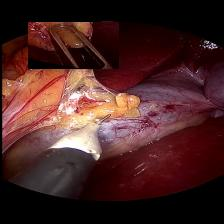Grasper: (27, 22, 118, 69)
Hook: (42, 114, 118, 163)
